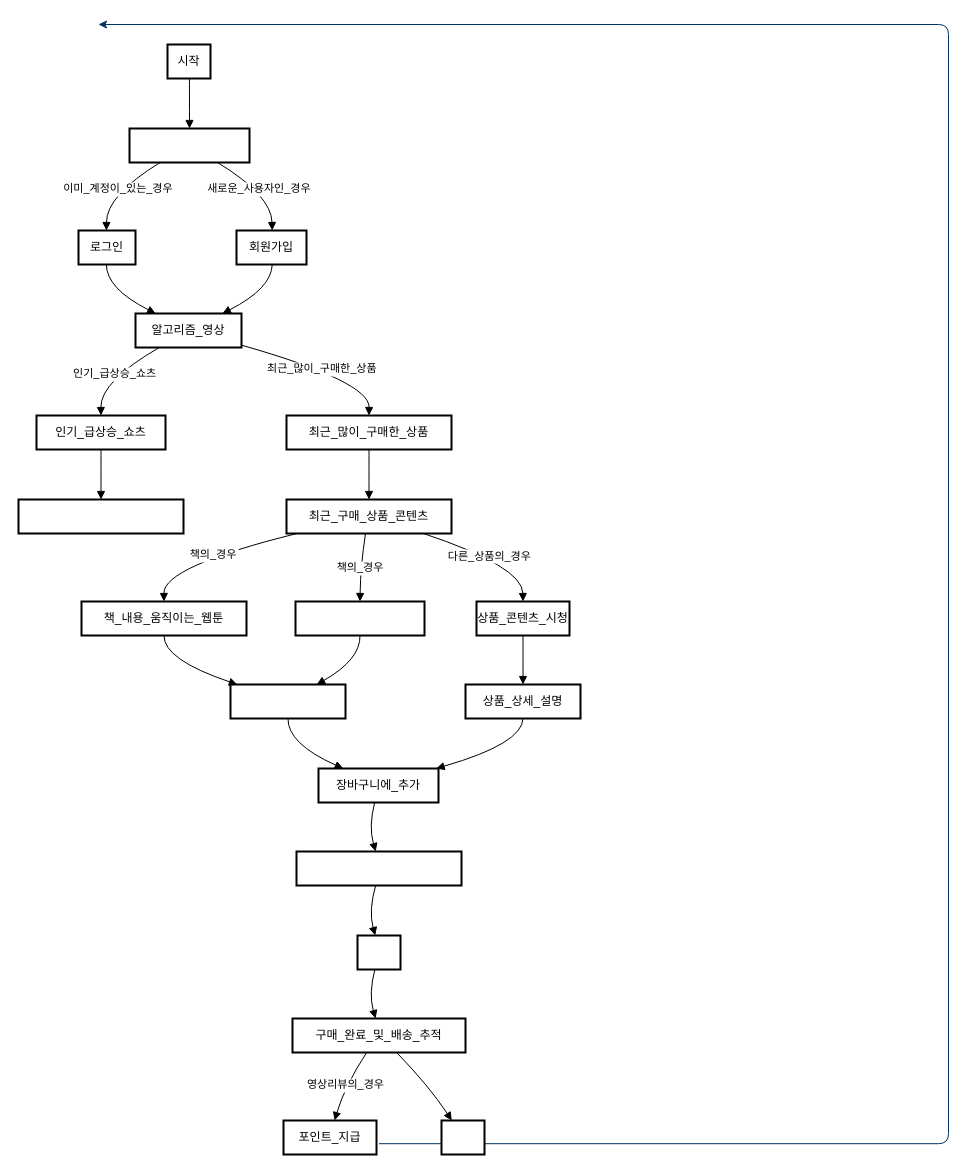
This 974x1173 diagram has some shape labels left out. The shapes that lost their labels are listed below. From the top down, each one's centre as x and y in pixels, then its label:
point 189,145: 로그인_회원가입
point 100,516: 인기_급상승_영상_시청
point 359,618: 책_내용_드라마화
point 287,701: 도서_상세_설명
point 378,868: 장바구니_확인
point 378,952: 결제
point 462,1137: 종료
